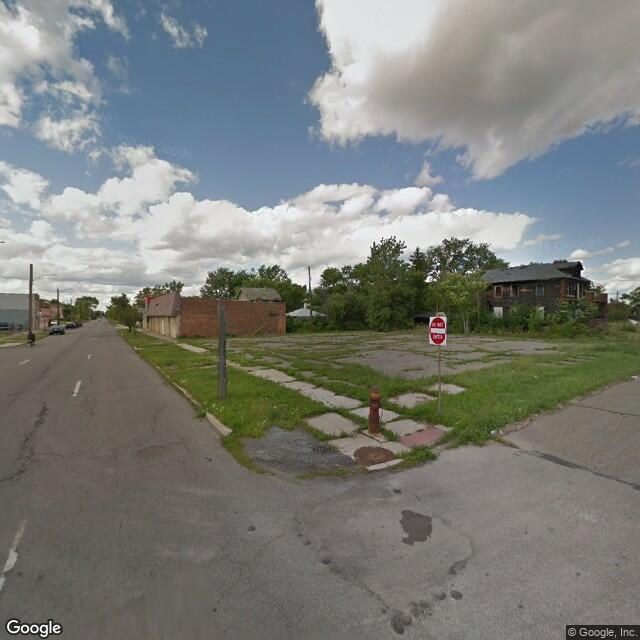litter: (211, 404, 223, 416), (490, 429, 501, 438), (258, 418, 266, 425), (272, 406, 278, 409)
